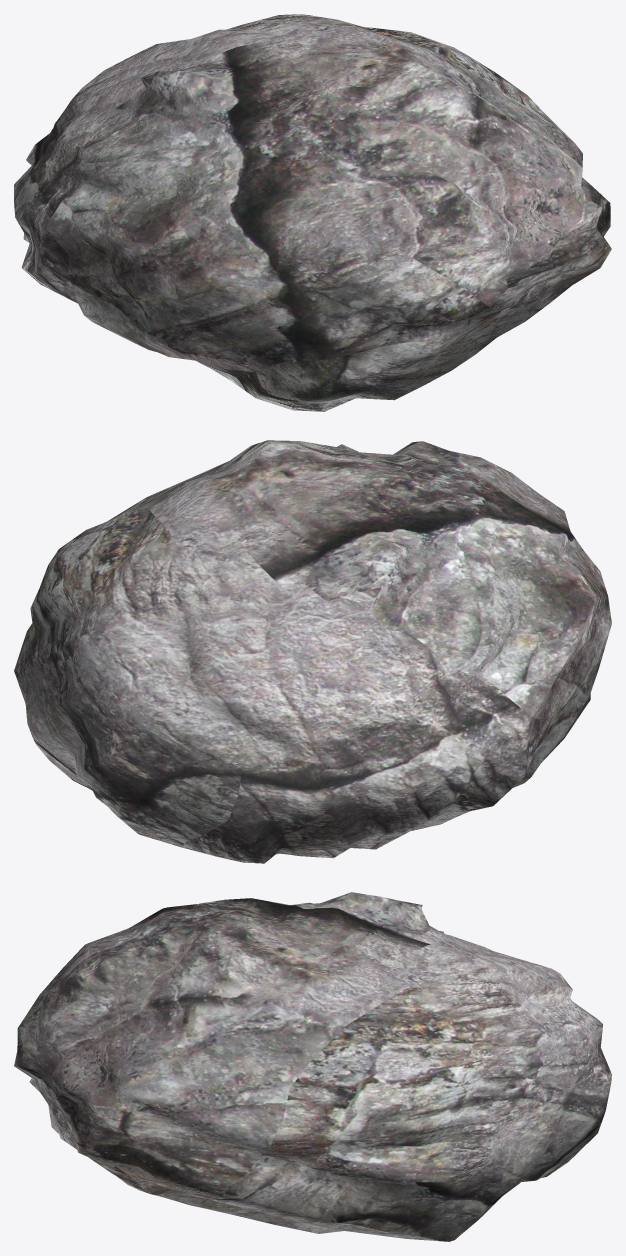
The model's file is Rock 8.FBX.
3 renders of one model, top to bottom at view 1: azimuth 30°, elevation 25°; view 2: azimuth 150°, elevation 25°; view 3: azimuth 270°, elevation 25°, orthographic. The views are drawn at different scales.
Parts seen in each view (by area): view 1: RockMesh; view 2: RockMesh; view 3: RockMesh.
Boxes of the visible parts, left/top/right/bottom form: RockMesh: left=14, top=14, right=611, bottom=411; RockMesh: left=14, top=440, right=611, bottom=863; RockMesh: left=14, top=892, right=611, bottom=1241.
Bounding box in the file's own units: 431 × 257 × 490.
1 material, 1 textured.
